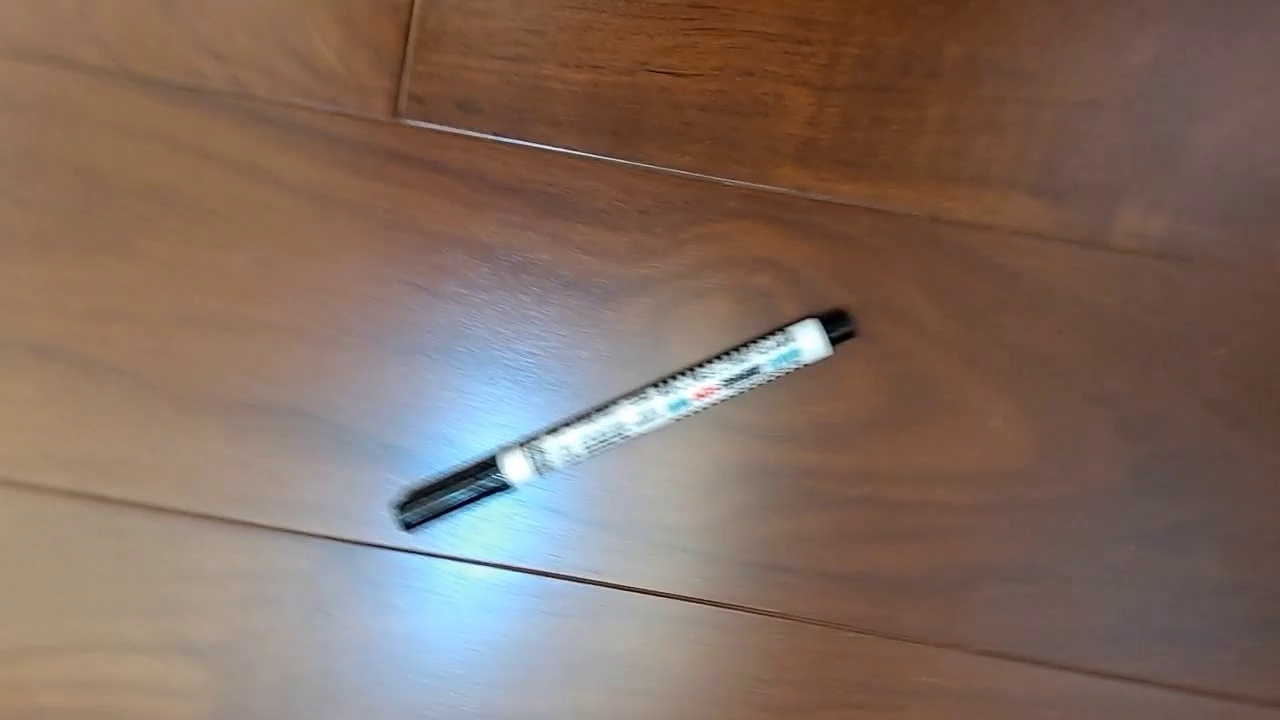pen: (390, 307, 860, 536)
